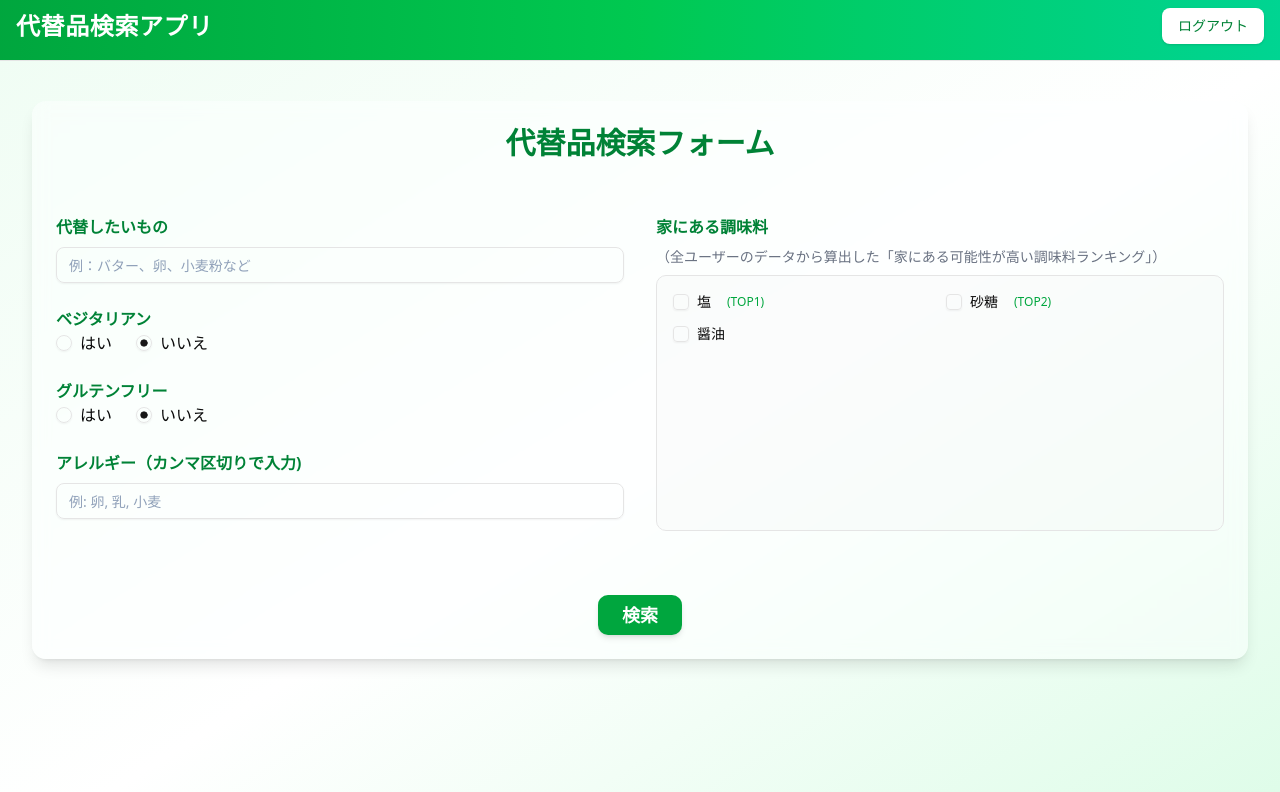
Test: 代替品検索画面 › AI が失敗したら「 サーバーが混雑しています…」が表示される
Type "バター" into the field labelled "代替したいもの" at point(340, 265), box top-left (56, 247), bottom-right (624, 283)
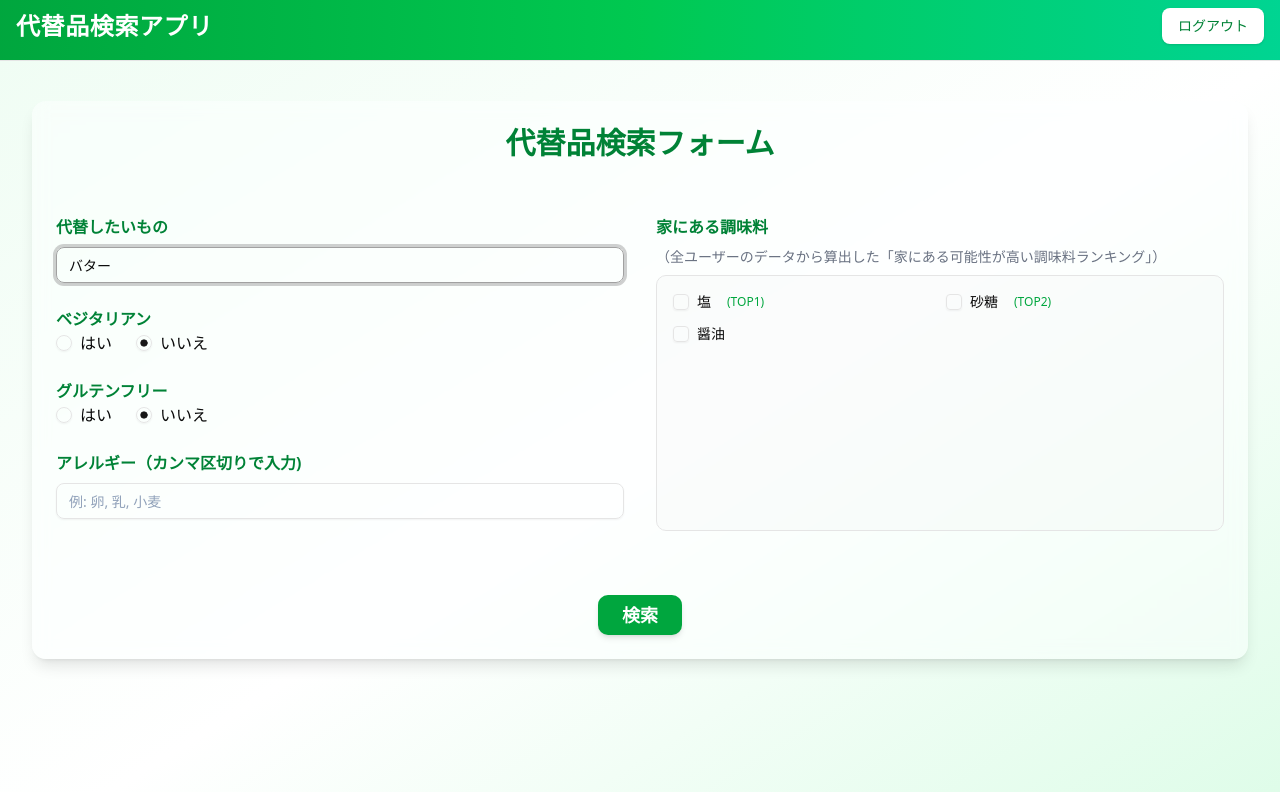
Click the button "検索" at point(640, 615), box top-left (598, 595), bottom-right (682, 635)
(page scrolled)
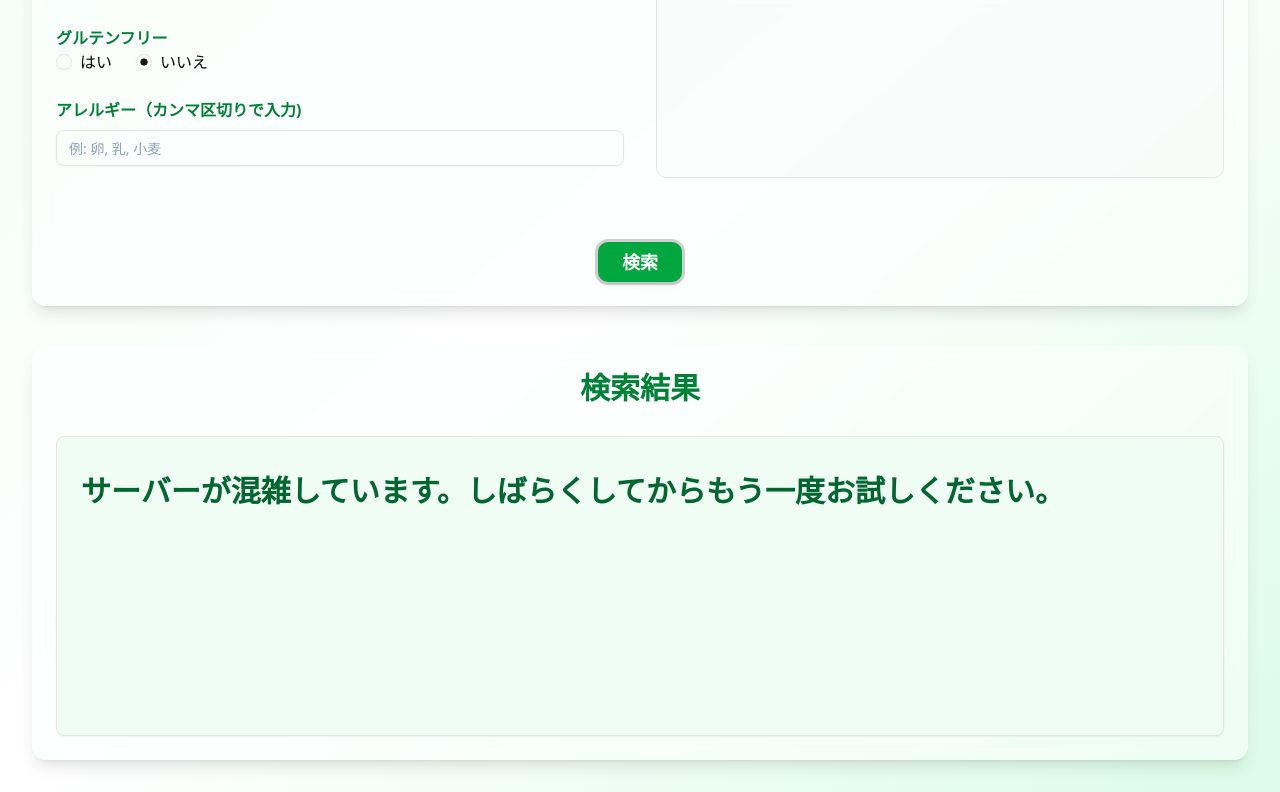
Expected: the text box "サーバーが混雑しています。しばらくしてからもう一度お試しください。" is shown, top-left (56, 436), bottom-right (1224, 736)
